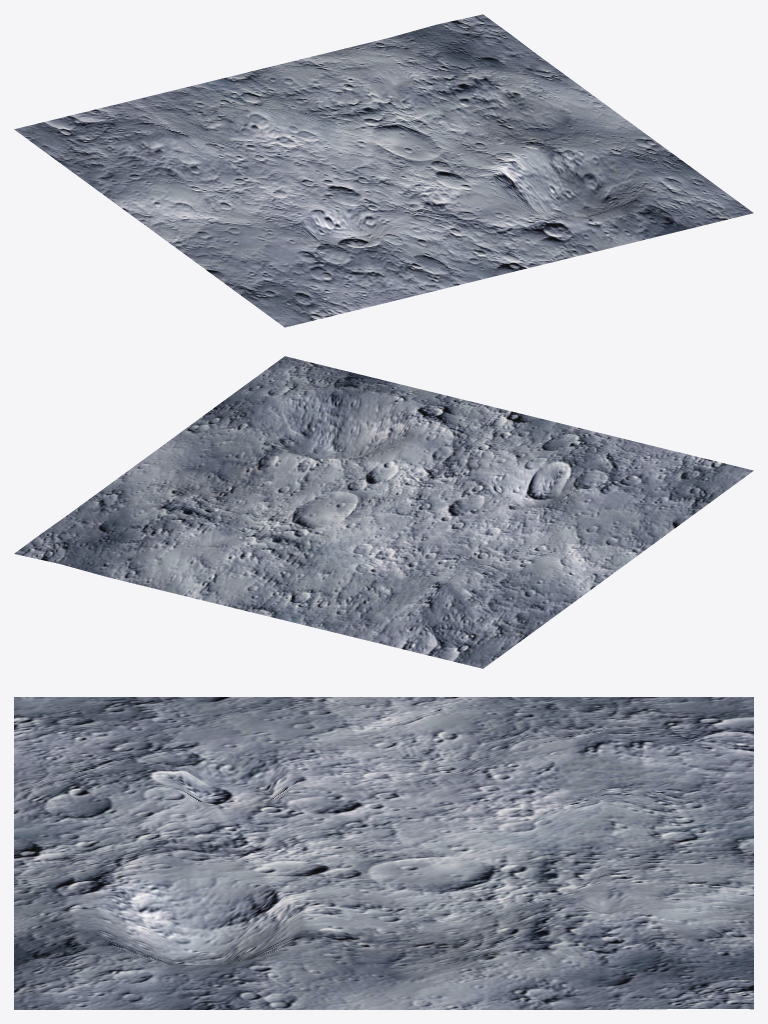
File: Moon-Terrain.fbx
3 renders of one model, top to bottom at view 1: azimuth 30°, elevation 25°; view 2: azimuth 150°, elevation 25°; view 3: azimuth 270°, elevation 25°, orthographic. The views are drawn at different scales.
Parts seen in each view (by area): view 1: pPlane1; view 2: pPlane1; view 3: pPlane1.
Boxes of the visible parts, <box> form: pPlane1: <box>14,14,753,327</box>; pPlane1: <box>14,356,753,668</box>; pPlane1: <box>14,697,753,1009</box>.
Size of the model in its own units: 21.33 by 1.68 by 21.33.
1 material, 1 textured.
